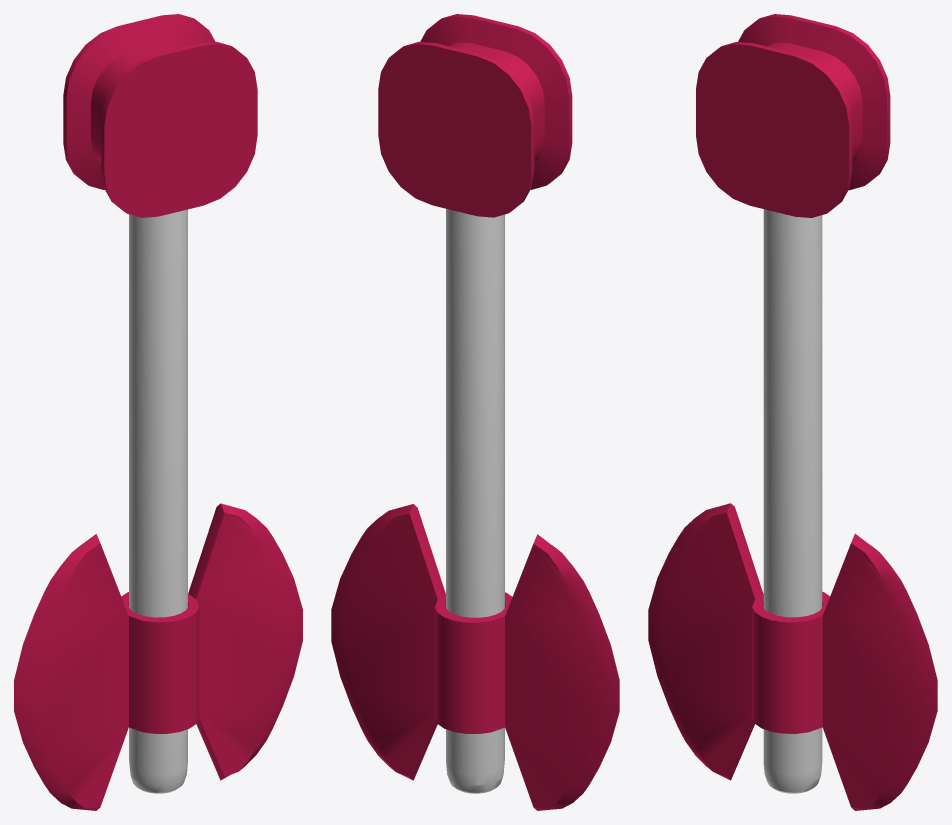
The model's file is axe_obstacle.glb.
The picture shows the model from 3 angles, left to right: view 1: azimuth 30°, elevation 25°; view 2: azimuth 150°, elevation 25°; view 3: azimuth 330°, elevation 25°; orthographic projection.
Visible parts, largest first — view 1: axe, Cube, axe_handle; view 2: axe, Cube, axe_handle; view 3: axe, Cube, axe_handle.
Boxes of the visible parts, <box> form: axe: <box>14,503,302,810</box>; Cube: <box>63,14,257,217</box>; axe_handle: <box>129,209,187,793</box>; axe: <box>331,504,619,810</box>; Cube: <box>378,14,572,217</box>; axe_handle: <box>446,208,504,793</box>; axe: <box>648,503,937,810</box>; Cube: <box>696,14,890,217</box>; axe_handle: <box>763,209,822,793</box>.
Size of the model in its own units: 296 by 743 by 76.08.
